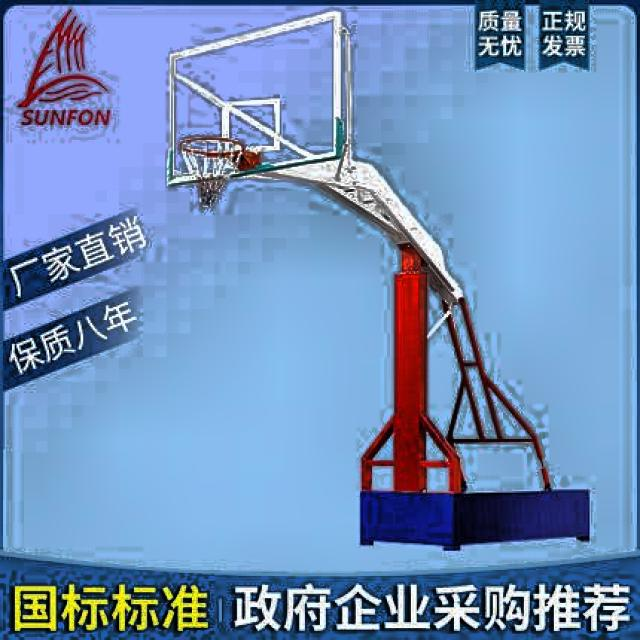rim: (182, 136, 247, 206)
